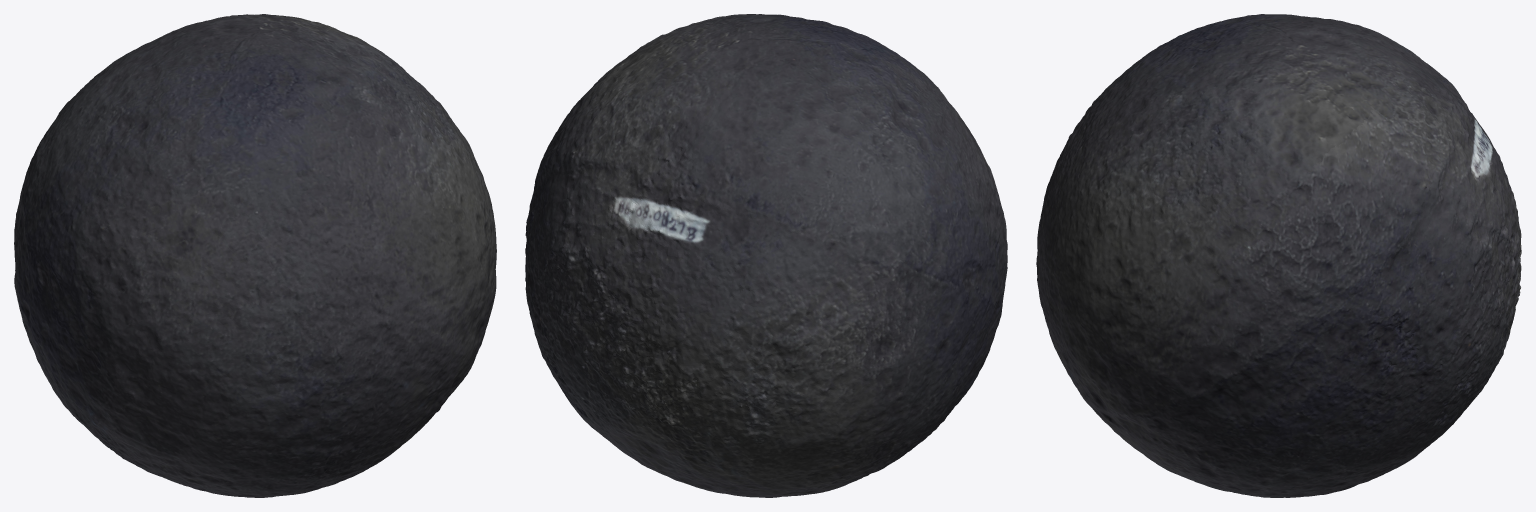
File: cannonball.obj
3 views of the same model, side by side, from view 1: azimuth 30°, elevation 25°; view 2: azimuth 150°, elevation 25°; view 3: azimuth 270°, elevation 25° (orthographic).
Size of the model in its own units: 100 by 100 by 100.
Materials: 1 (1 with a texture image).
